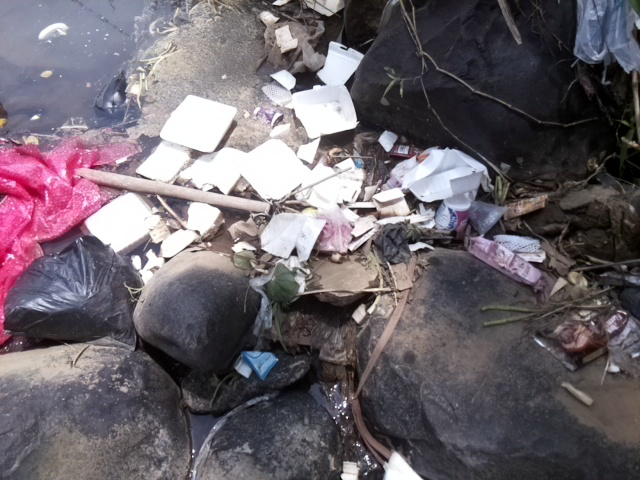Sampah_Plastik: (1, 132, 138, 343), (4, 235, 142, 348), (535, 311, 640, 375), (465, 223, 554, 285), (235, 348, 278, 379)
Sampah_Styrofoam: (141, 139, 366, 210), (394, 143, 494, 201), (76, 192, 167, 254), (159, 93, 239, 150), (283, 84, 364, 136), (163, 198, 226, 255), (260, 212, 325, 259), (315, 38, 363, 92)
